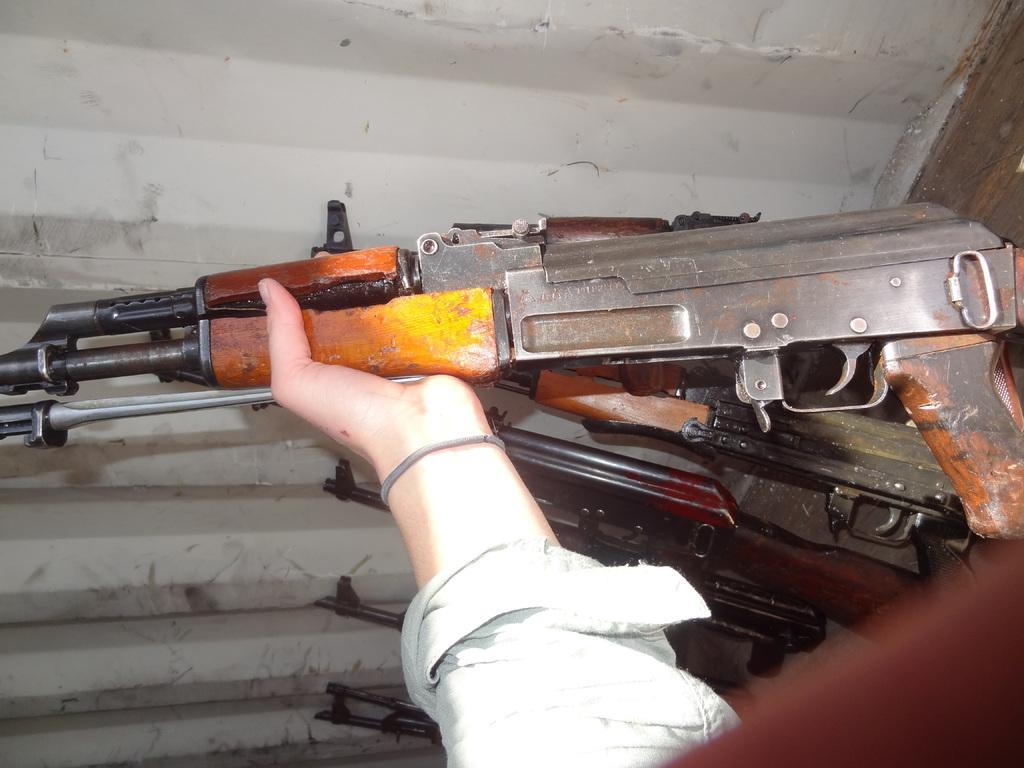Shotgun: (0, 198, 1024, 745)
